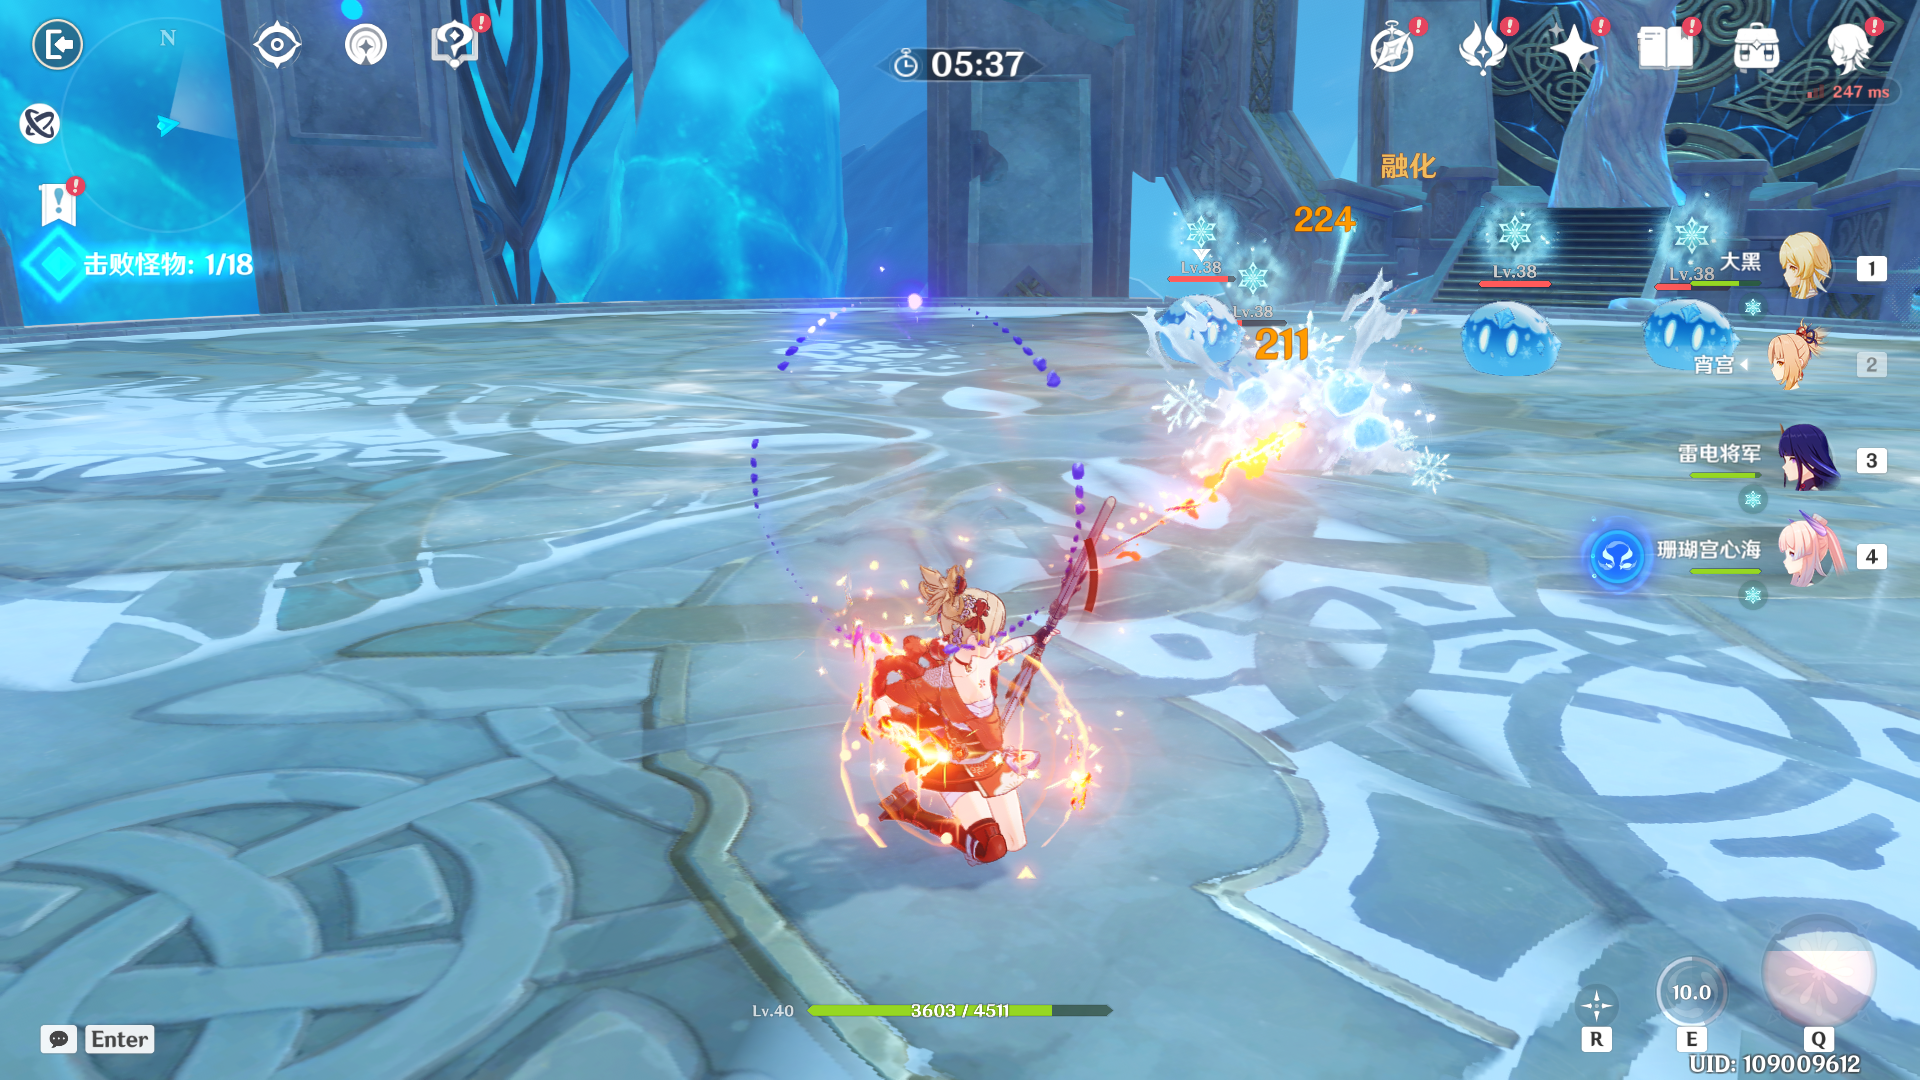character: (804, 545, 1145, 913)
slime: (1636, 280, 1750, 385), (1451, 289, 1569, 384), (1139, 289, 1245, 371)
